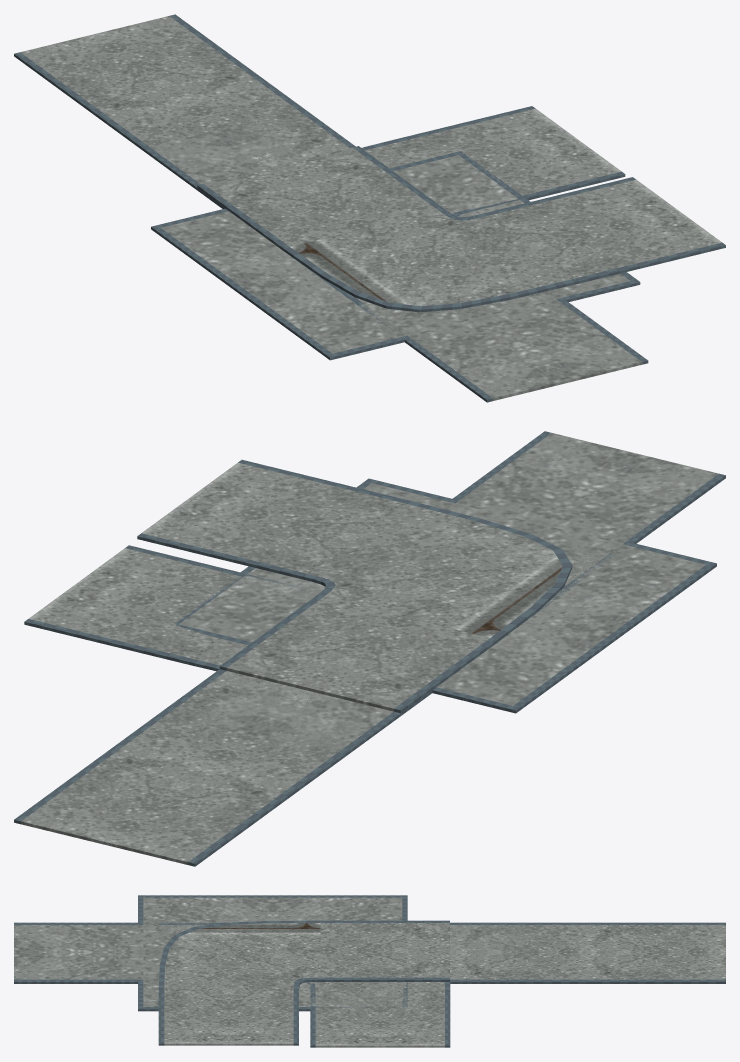
File: AllRoad.fbx
3 renders of one model, top to bottom at view 1: azimuth 30°, elevation 25°; view 2: azimuth 150°, elevation 25°; view 3: azimuth 270°, elevation 25°, orthographic. The views are drawn at different scales.
Parts seen in each view (by area): view 1: Road L1, Road Bigger, BasicRoad 4, Road L3, BasicRoad 3, BasicRoad 2; view 2: Road L1, Road Bigger, BasicRoad 4, Road L3, BasicRoad 3, BasicRoad 2; view 3: Road L1, Road Bigger, Road L3, BasicRoad 4, BasicRoad 3, BasicRoad 2.
Part boxes in pixels (x1,y1,x2,y2): Road L1: (197, 146, 725, 312); Road Bigger: (143, 109, 648, 402); BasicRoad 4: (14, 14, 260, 118); Road L3: (317, 106, 625, 328); BasicRoad 3: (100, 77, 345, 174); BasicRoad 2: (193, 141, 353, 186); Road L1: (137, 459, 572, 713); Road Bigger: (175, 431, 725, 760); BasicRoad 4: (14, 749, 291, 866); Road L3: (24, 532, 615, 671); BasicRoad 3: (111, 678, 386, 795); BasicRoad 2: (207, 669, 388, 721); Road L1: (158, 920, 449, 1045); Road Bigger: (14, 895, 531, 1011); Road L3: (159, 922, 450, 1047); BasicRoad 4: (596, 922, 725, 983); BasicRoad 3: (467, 922, 596, 983); BasicRoad 2: (450, 922, 466, 981).
Bounding box in the file's own units: 1650 × 20 × 3300.
